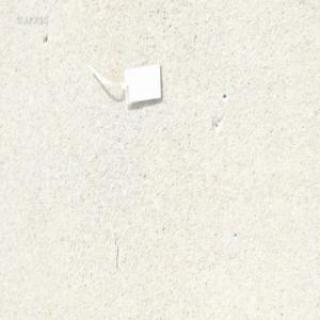LuggageTagtrack_idkeyframe: (86, 59, 163, 108)
